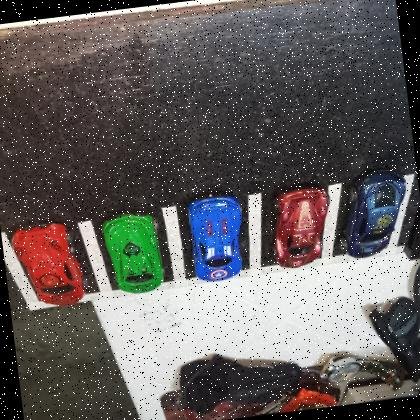Car: (8, 217, 90, 314), (332, 168, 416, 262), (265, 186, 339, 274), (184, 192, 252, 286), (100, 209, 169, 299)
